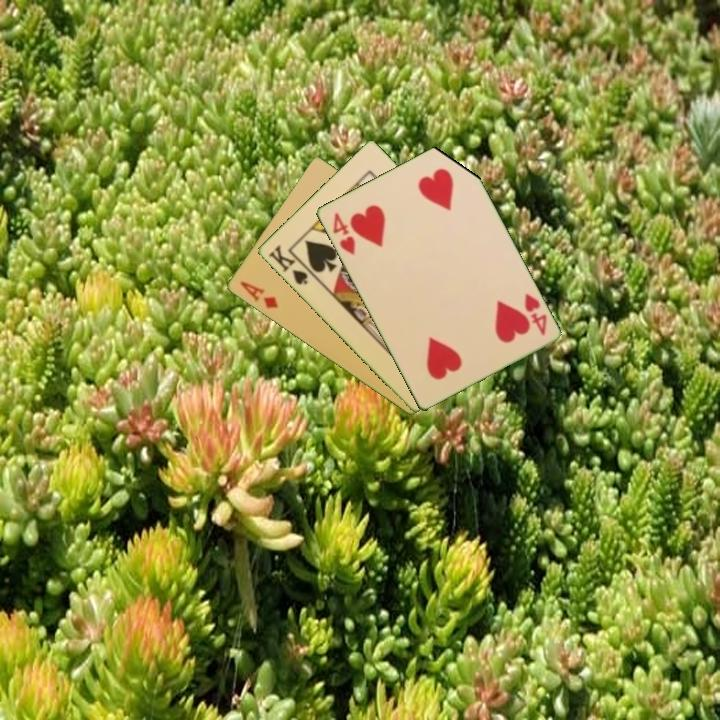4h: (329, 208, 358, 258), (520, 289, 549, 338)
Ad: (236, 278, 281, 311)
Ks: (264, 241, 316, 288)
